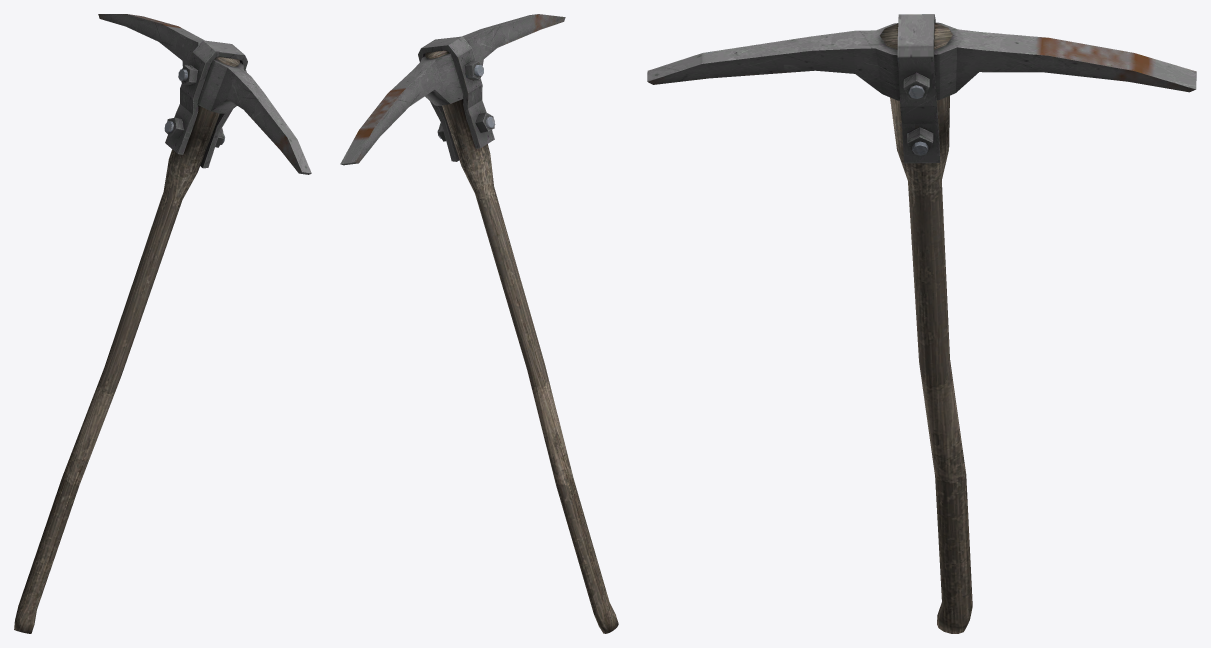
The model's file is JackHammer.glb.
3 renders of one model, left to right at view 1: azimuth 30°, elevation 25°; view 2: azimuth 150°, elevation 25°; view 3: azimuth 270°, elevation 25°, orthographic. The views are drawn at different scales.
Parts seen in each view (by area): view 1: pickaxe; view 2: pickaxe; view 3: pickaxe.
Boxes of the visible parts, box(x1,y1,x2,y2) form: pickaxe: box(14, 14, 311, 633); pickaxe: box(340, 14, 618, 633); pickaxe: box(647, 14, 1196, 633).
Size of the model in its own units: 0.2112 by 0.5163 by 0.3537.
1 material, 1 textured.
